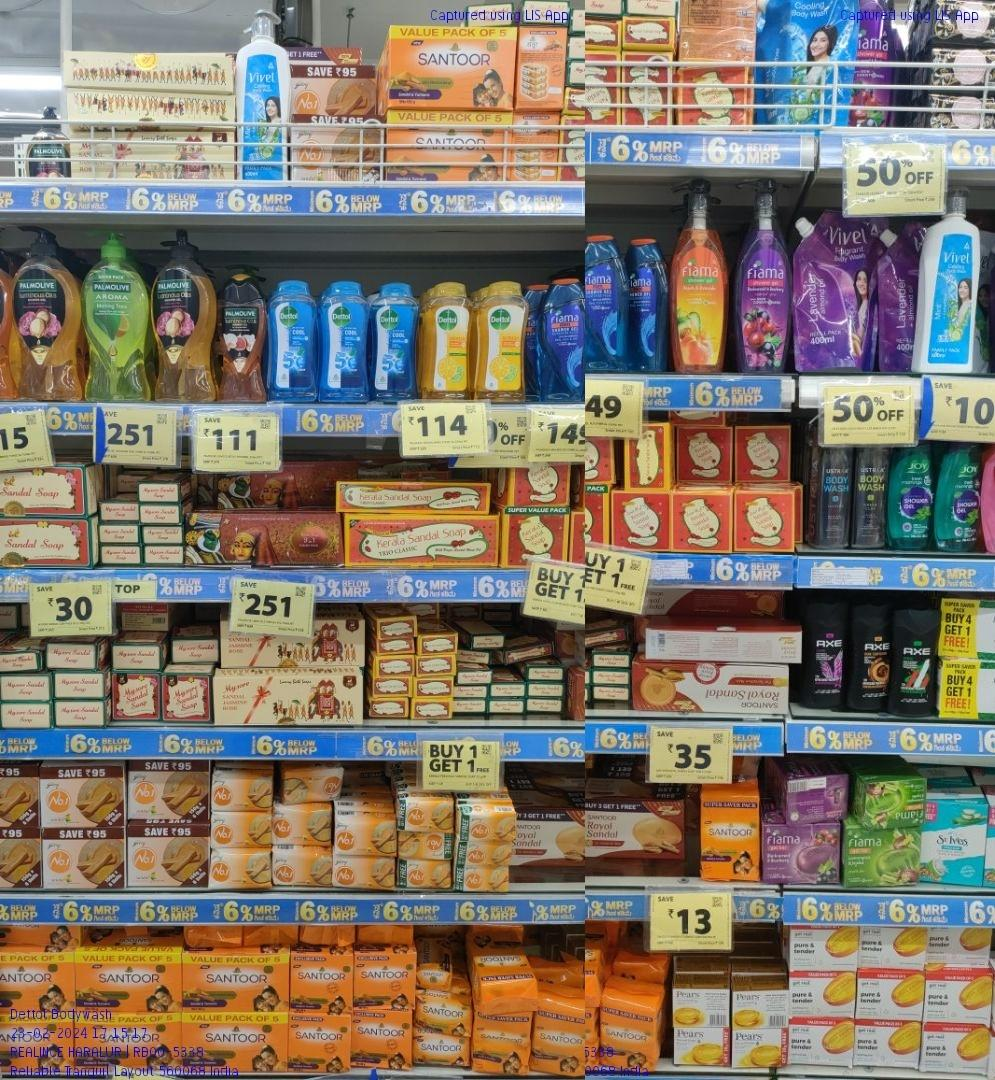Dettol_Bodywash_Cool: (270, 283, 319, 404), (324, 284, 370, 403), (374, 282, 418, 403)
Dettol_Bodywash_Refresh: (476, 284, 526, 403), (424, 284, 473, 400)
Joy_Shower_Gel_Mint_and_Eucalyptus_250ML: (936, 446, 983, 551), (890, 449, 934, 552)
